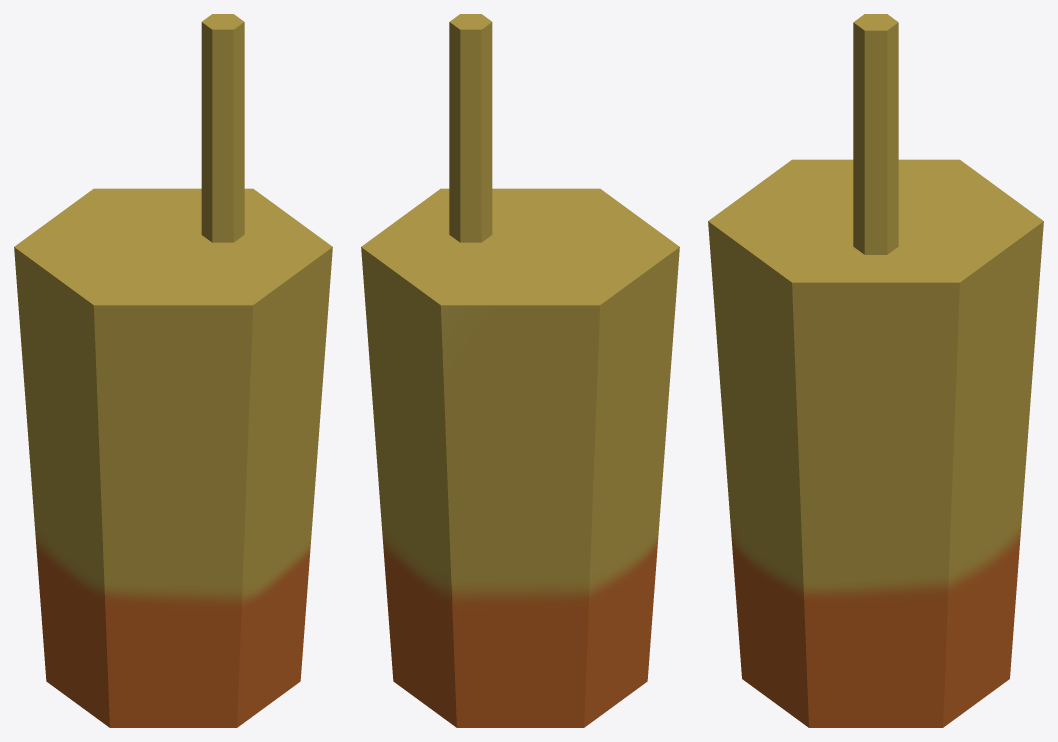
The model's file is tea.gltf.
The picture shows the model from 3 angles, left to right: view 1: azimuth 30°, elevation 25°; view 2: azimuth 150°, elevation 25°; view 3: azimuth 270°, elevation 25°; orthographic projection. The views are drawn at different scales.
Visible parts, largest first — view 1: Cylinder; view 2: Cylinder; view 3: Cylinder.
Boxes of the visible parts, x1,y1,x2,y2 form: Cylinder: (14,14,332,727); Cylinder: (361,14,679,727); Cylinder: (708,14,1043,727).
Size of the model in its own units: 0.5075 by 1.31 by 0.586.
